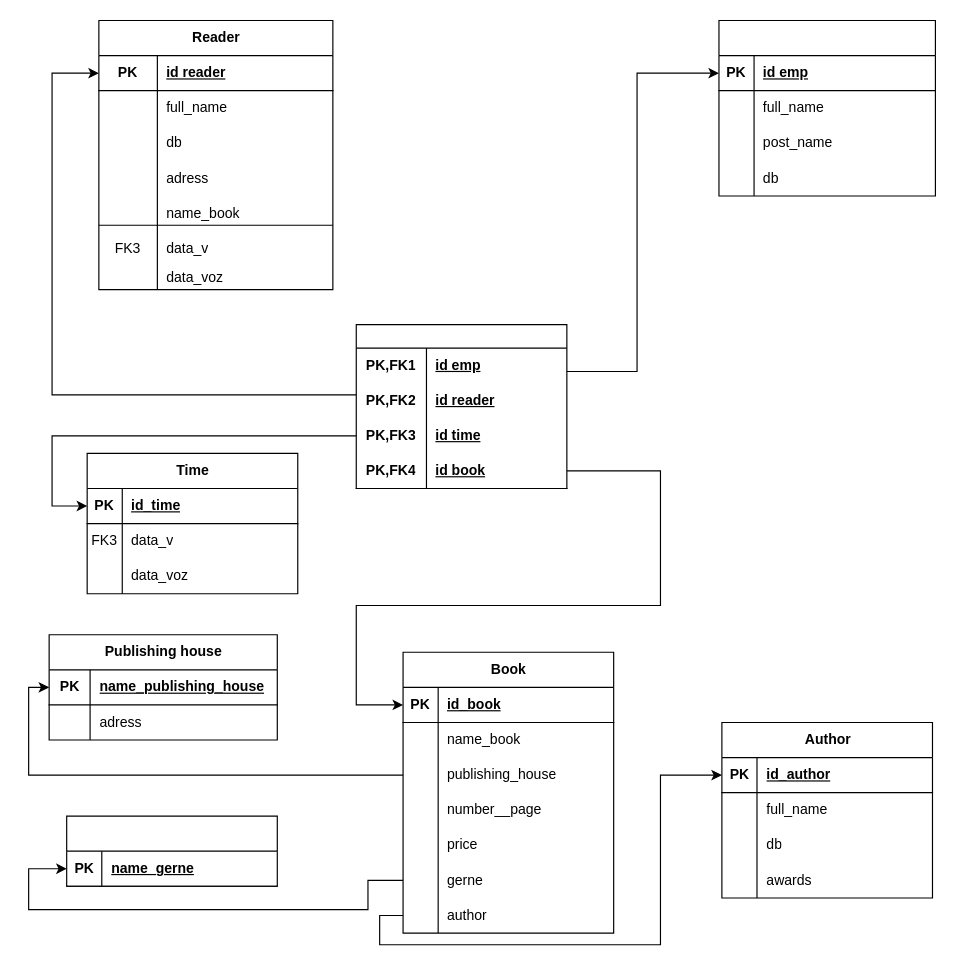
This 956x975 diagram has some shape labels left out. The box of each missing label's shape, as (x1, y1, x2, y2) in pixels:
Employee: (718, 19, 935, 196)
Genre: (66, 815, 277, 886)
Library: (355, 324, 567, 488)
